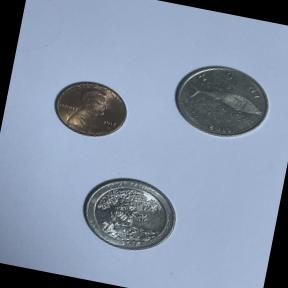Croatia-2Kune-B: (162, 54, 282, 150)
US-1cent-B: (42, 69, 140, 149)
US-25cent-B: (69, 166, 187, 262)
